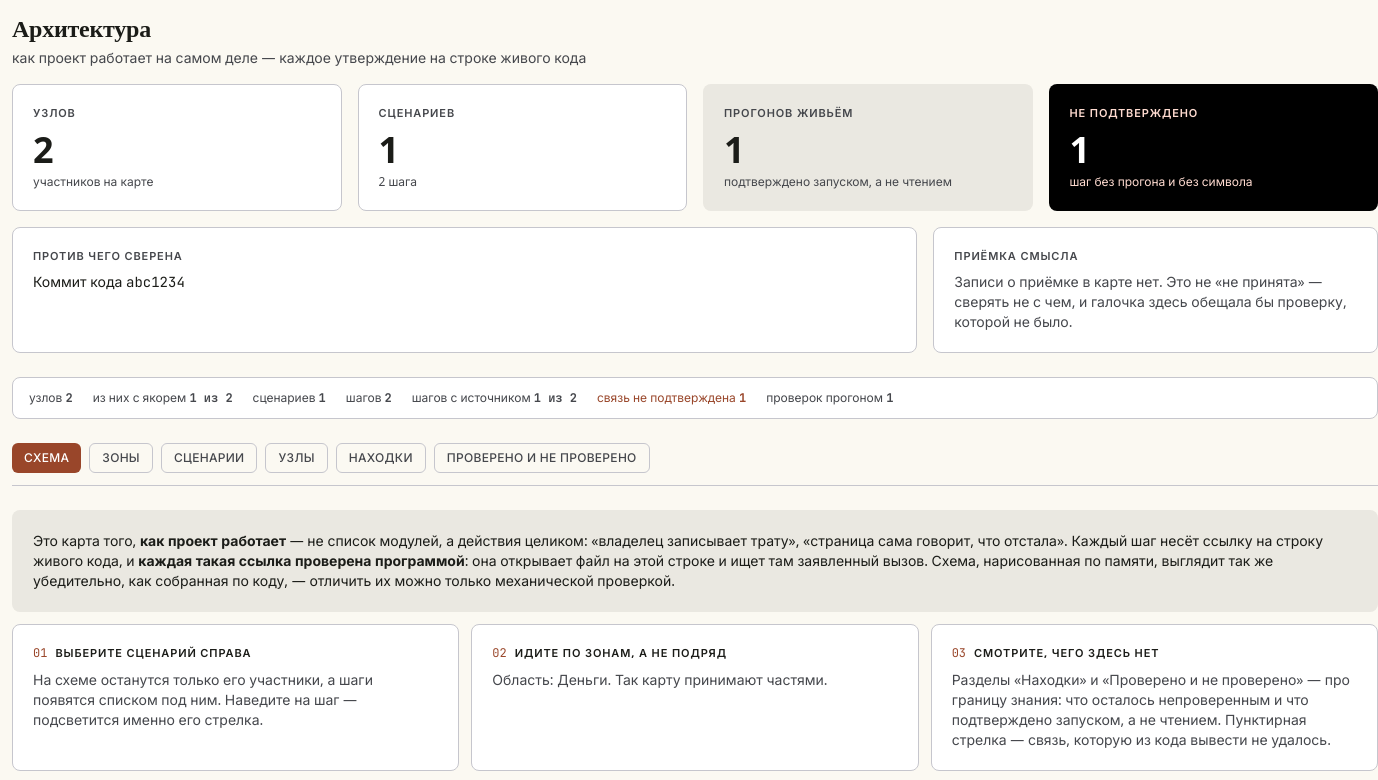
Test case: ArchitectureView › называет узел без единого якоря
The image size is (1378, 780).
What coordinates should you click on to do the following:
click the button "Узлы"
I would click on:
 (297, 458)
Its box is [266, 443, 328, 473].
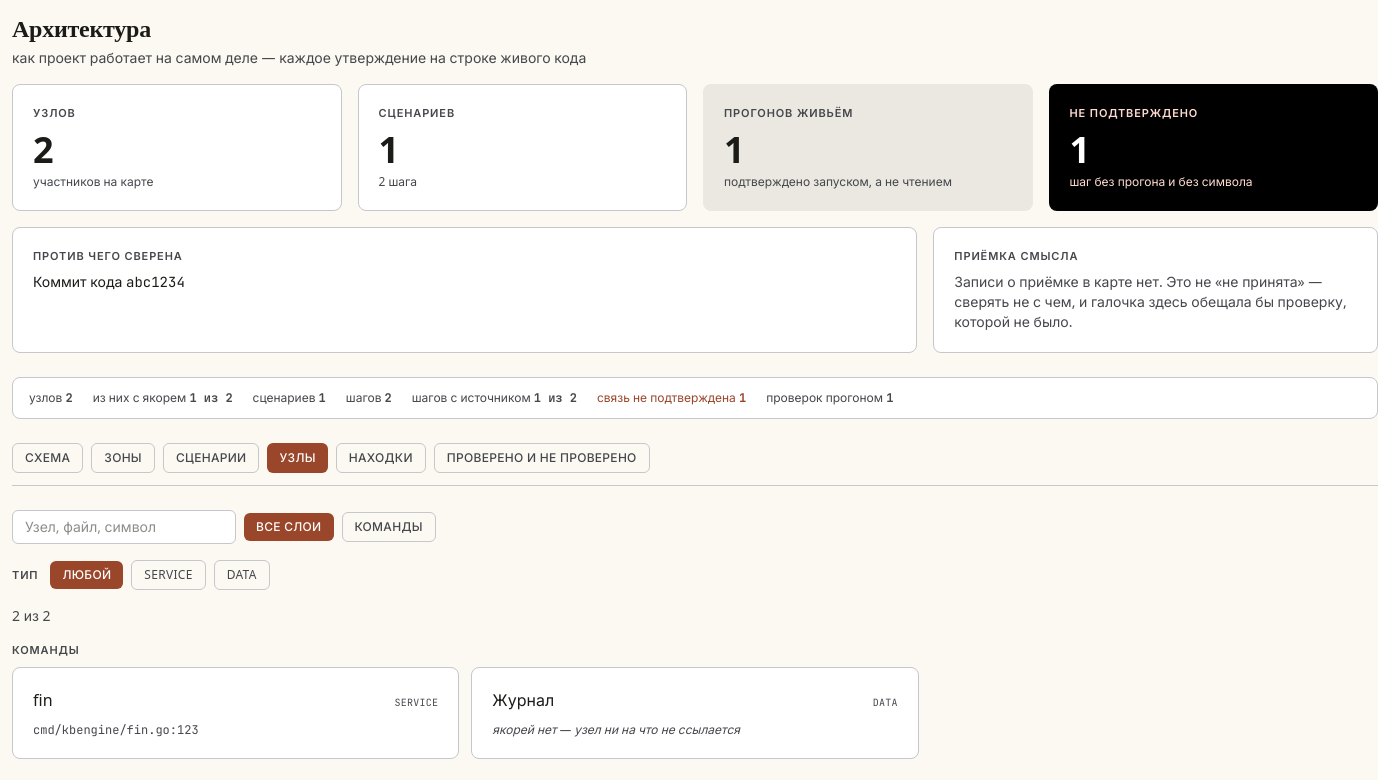
expect the text "якорей нет — узел ни на что не ссылается" is shown: met, box [492, 720, 740, 738]
